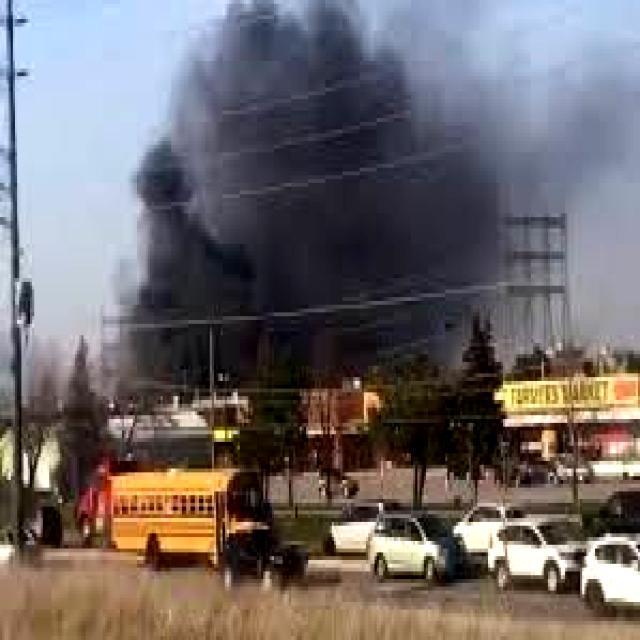Smoke: (122, 12, 512, 402)
